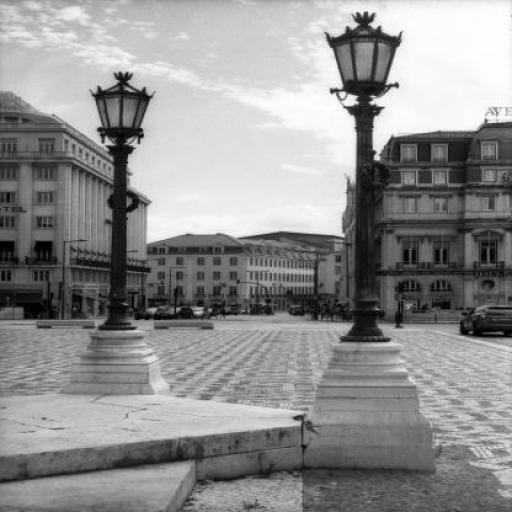street light: (300, 10, 436, 468), (73, 73, 163, 397)
